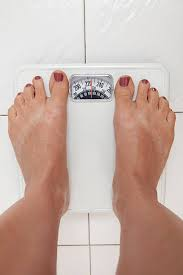Feet: (6, 68, 71, 213), (111, 73, 176, 214)
